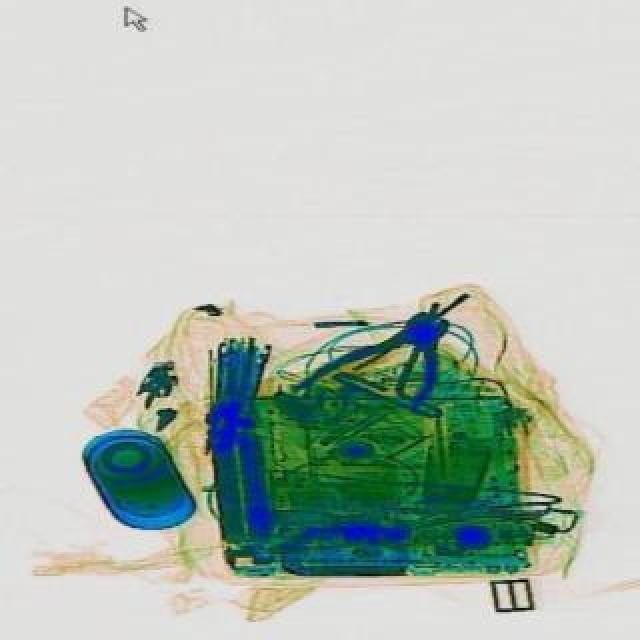wrench: (286, 276, 470, 452)
